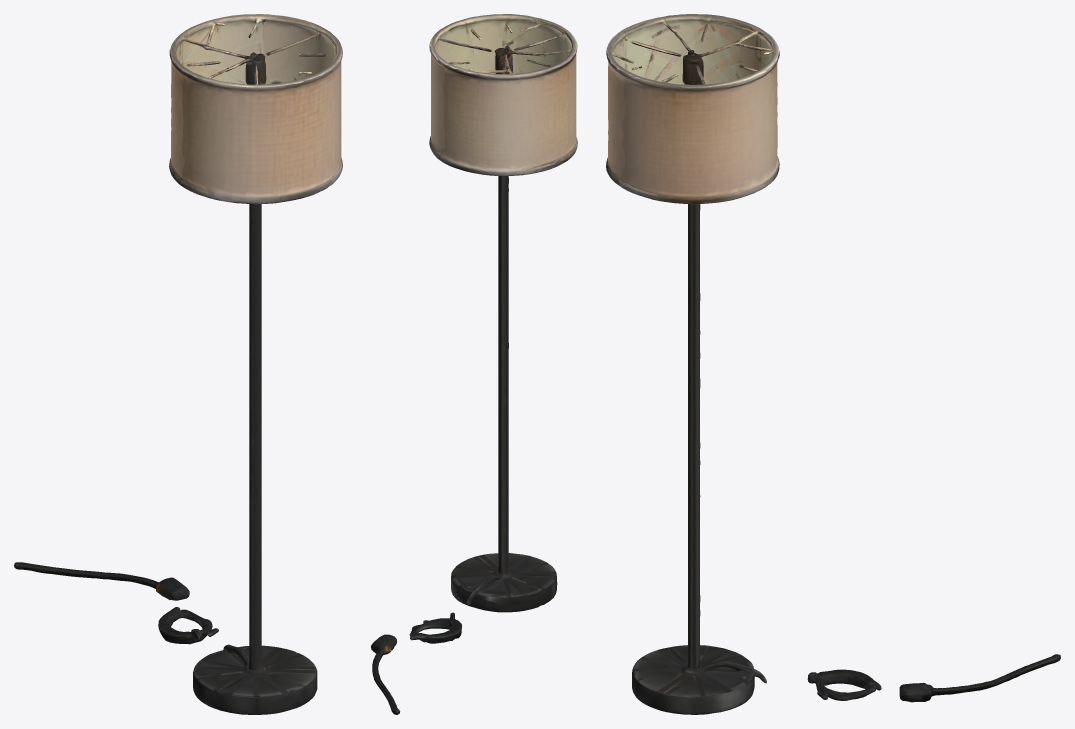
Rendered from mundane_floor_lamp.glb.
3 views of the same model, side by side, from view 1: azimuth 30°, elevation 25°; view 2: azimuth 150°, elevation 25°; view 3: azimuth 270°, elevation 25° (orthographic). The views are drawn at different scales.
Parts seen in each view (by area): view 1: geometry_0; view 2: geometry_0; view 3: geometry_0.
Boxes of the visible parts, x1,y1,x2,y2 form: geometry_0: (14,14,342,714); geometry_0: (371,14,577,714); geometry_0: (606,14,1060,714).
Bounding box in the file's own units: 0.3711 × 1.5 × 0.966.
Materials: 1 (1 with a texture image).
